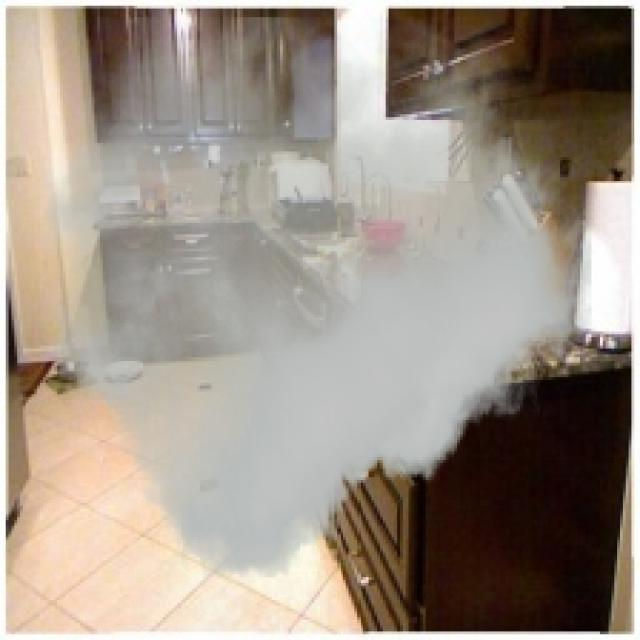Smoke: (42, 17, 592, 577)
